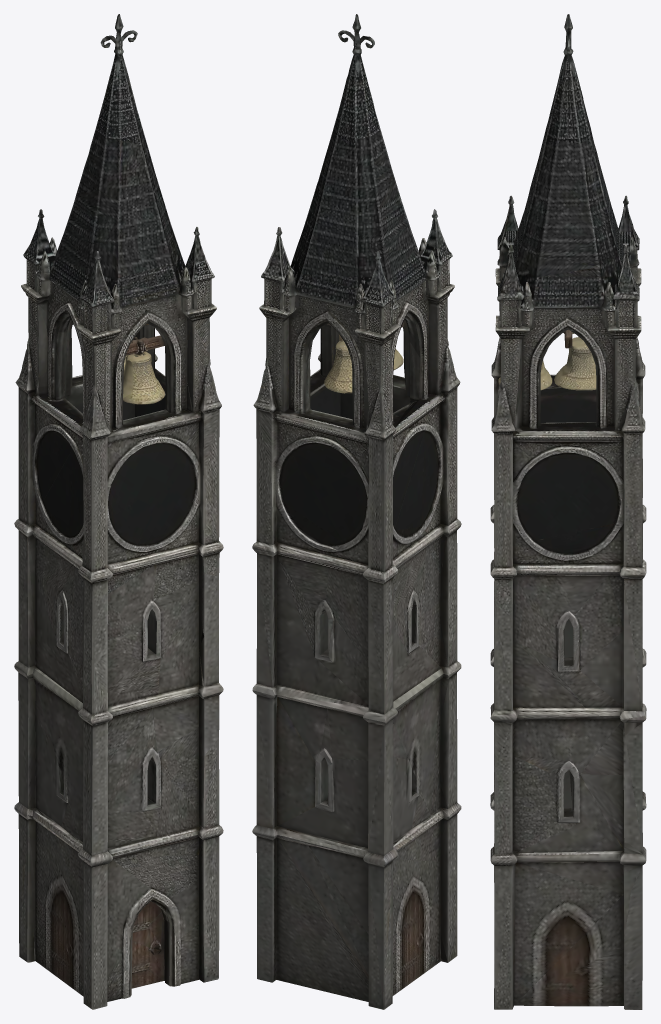
The model's file is t3d-tower-f9c00a7f.glb.
The picture shows the model from 3 angles, left to right: view 1: azimuth 30°, elevation 25°; view 2: azimuth 150°, elevation 25°; view 3: azimuth 270°, elevation 25°; orthographic projection.
Visible parts, largest first — view 1: output_unwrapped; view 2: output_unwrapped; view 3: output_unwrapped.
Part boxes in pixels (<box>): output_unwrapped: <box>14,14,223,1009</box>; output_unwrapped: <box>252,14,461,1009</box>; output_unwrapped: <box>490,14,646,1009</box>.
Bounding box in the file's own units: 0.278 × 1.9 × 0.2782.
Materials: 1 (1 with a texture image).
